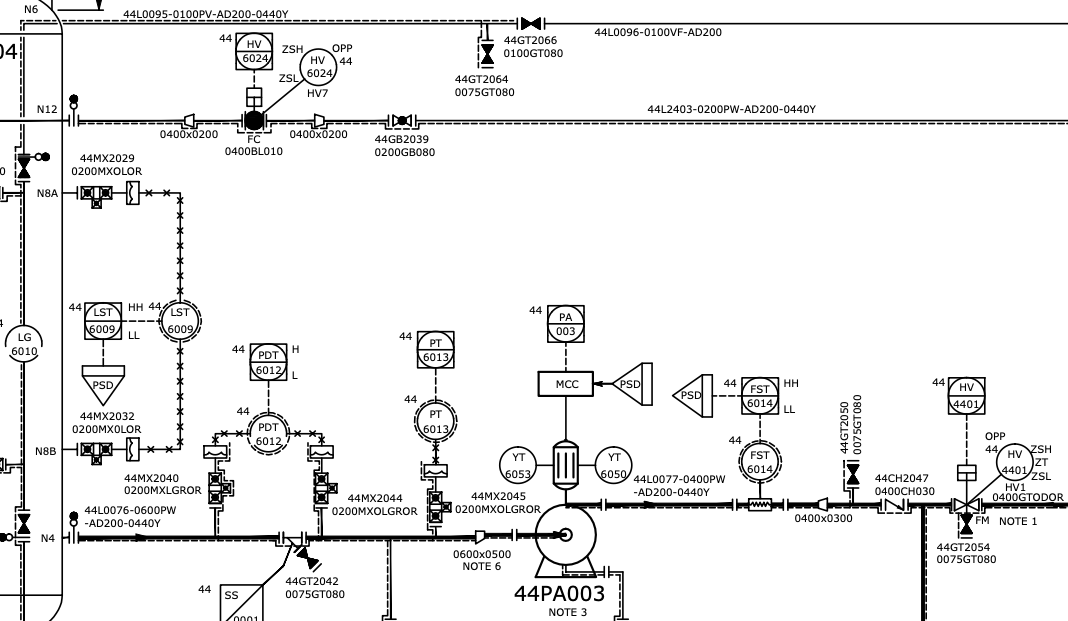Instrument: (721, 432, 785, 485), (403, 391, 459, 445), (147, 297, 204, 344), (234, 406, 289, 451), (299, 48, 355, 87), (980, 443, 1036, 480), (492, 444, 539, 486), (594, 445, 632, 486)
Instrument-square: (524, 300, 595, 347), (397, 327, 458, 374), (931, 372, 989, 421), (65, 299, 125, 345), (232, 339, 290, 385), (719, 376, 782, 416)
